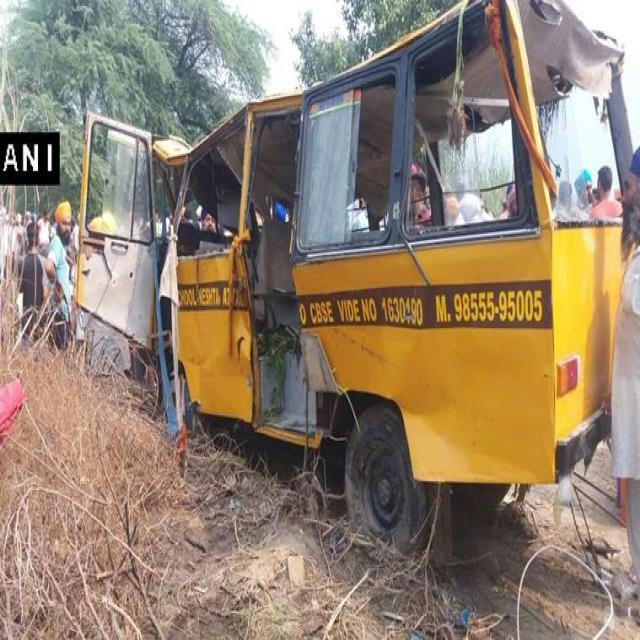accident: (75, 0, 631, 547)
